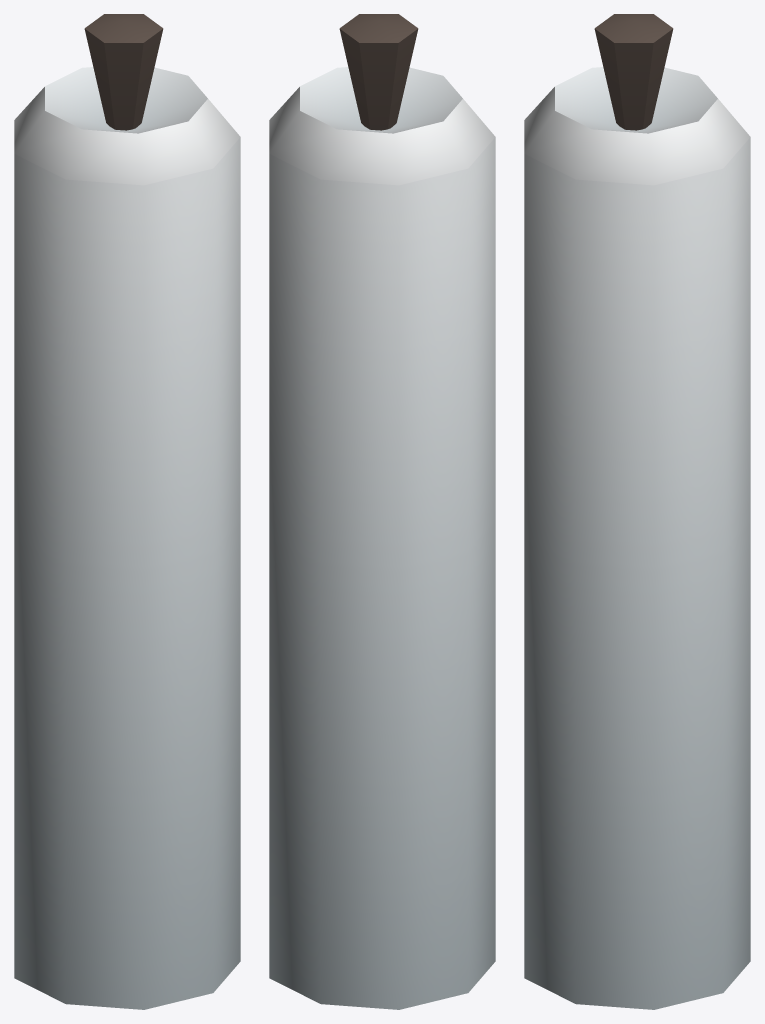
The model's file is candle_thin.obj.
3 views of the same model, side by side, from view 1: azimuth 30°, elevation 25°; view 2: azimuth 150°, elevation 25°; view 3: azimuth 270°, elevation 25° (orthographic).
Parts seen in each view (by area): view 1: candle_thin_Cylinder.114; view 2: candle_thin_Cylinder.114; view 3: candle_thin_Cylinder.114.
Part boxes in pixels (x1,y1,x2,y2): candle_thin_Cylinder.114: [14, 14, 240, 1009]; candle_thin_Cylinder.114: [269, 14, 495, 1009]; candle_thin_Cylinder.114: [524, 14, 750, 1009].
Bounding box in the file's own units: 0.1739 × 0.7857 × 0.1712.
1 material, 1 textured.
